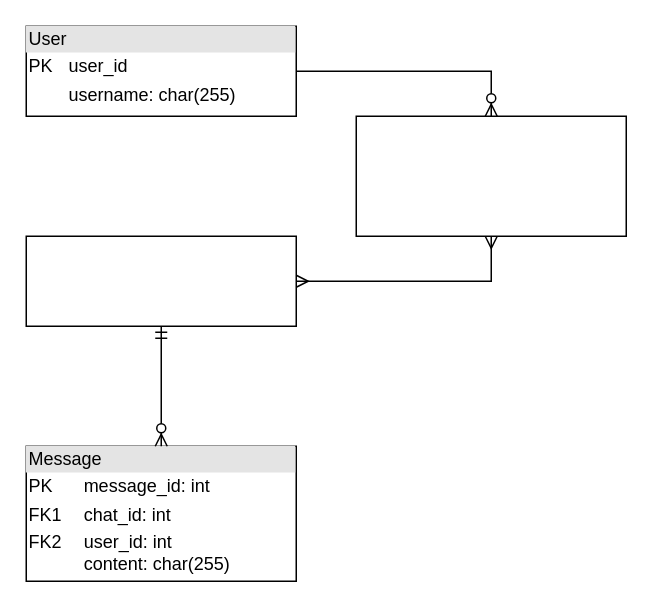
Image size: 653x608. Some labels were removed from this diagram. The centre of each missing label's shape, as x and y in pixels:
Chat PK chat_id chat_name: char(255): the point at 160,280
User_Chat PK user_chat_id FK1 user_id FK2 chat_id: the point at 490,175
